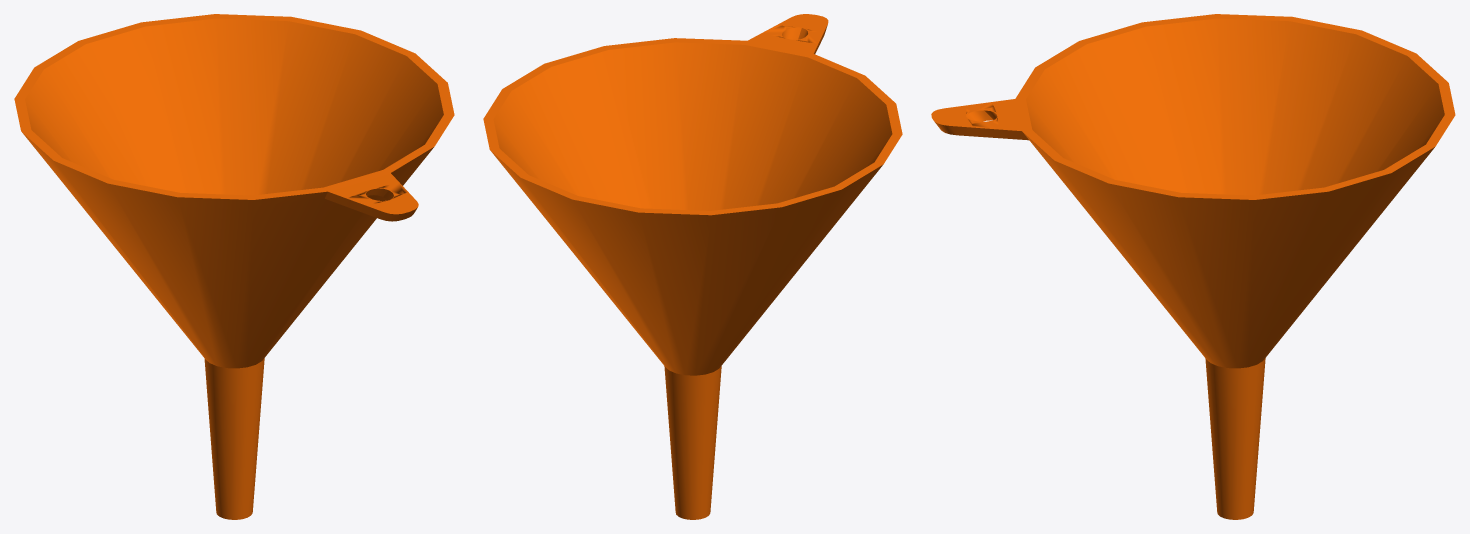
Rendered from 019c45c8-4f40-4240-8ea7-eca259414c5e.glb.
3 renders of one model, left to right at view 1: azimuth 30°, elevation 25°; view 2: azimuth 150°, elevation 25°; view 3: azimuth 270°, elevation 25°, orthographic. The views are drawn at different scales.
Visible parts, largest first — view 1: Cylinder001; view 2: Cylinder001; view 3: Cylinder001.
Part boxes in pixels (x1,y1,x2,y2): Cylinder001: (14,14,454,519); Cylinder001: (483,14,902,519); Cylinder001: (931,14,1455,519).
Bounding box in the file's own units: 307668 × 313117 × 366262.
